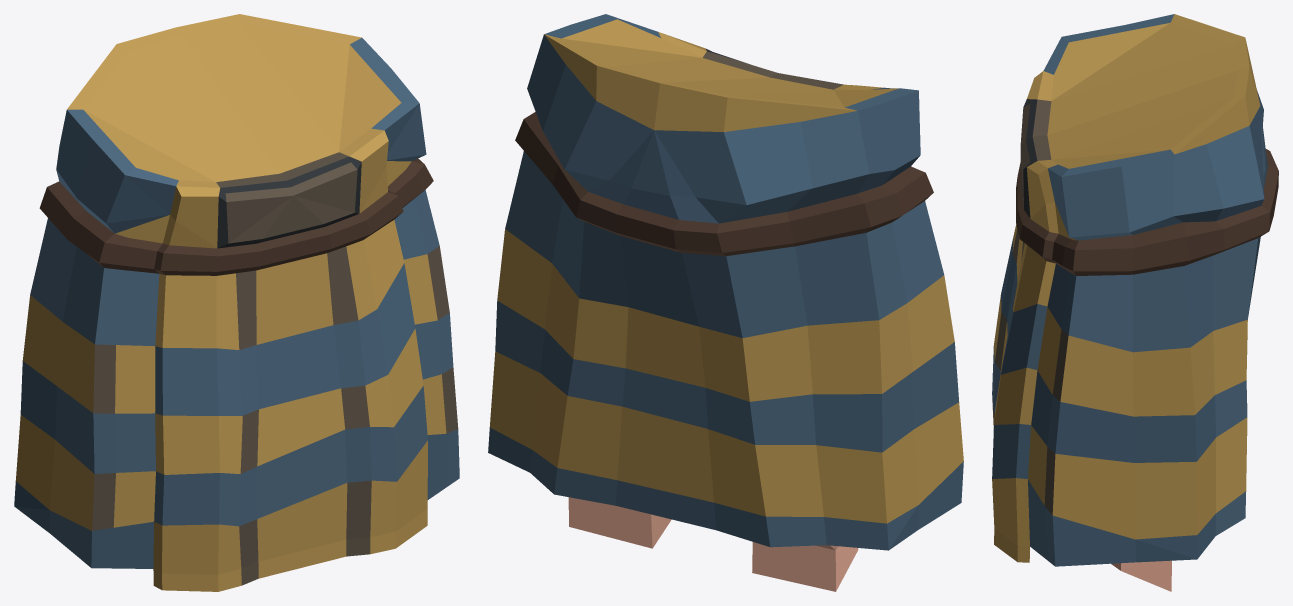
File: Chr_Hips_Female_26_Static.fbx
3 renders of one model, left to right at view 1: azimuth 30°, elevation 25°; view 2: azimuth 150°, elevation 25°; view 3: azimuth 270°, elevation 25°, orthographic. The views are drawn at different scales.
Parts seen in each view (by area): view 1: Chr_Hips_Female_26_Static; view 2: Chr_Hips_Female_26_Static; view 3: Chr_Hips_Female_26_Static.
Boxes of the visible parts, x1,y1,x2,y2 form: Chr_Hips_Female_26_Static: [14, 14, 459, 591]; Chr_Hips_Female_26_Static: [488, 14, 963, 591]; Chr_Hips_Female_26_Static: [992, 14, 1278, 591].
Size of the model in its own units: 0.4768 by 0.5783 by 0.3221.
